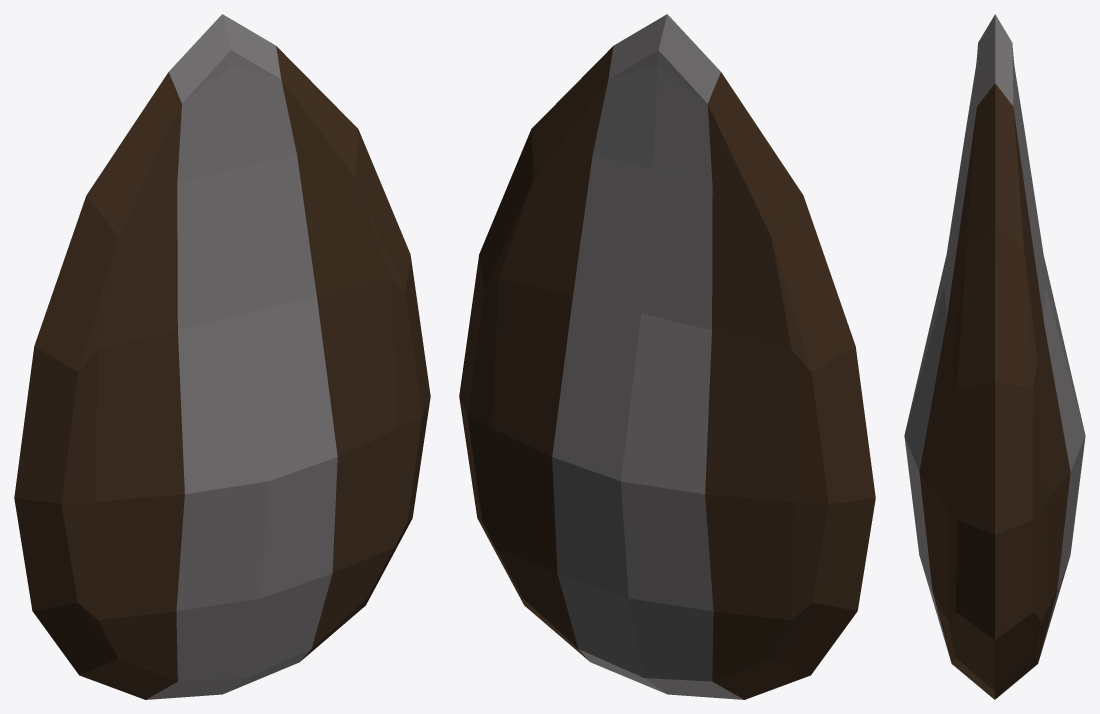
File: seed2.fbx
The picture shows the model from 3 angles, left to right: view 1: azimuth 30°, elevation 25°; view 2: azimuth 150°, elevation 25°; view 3: azimuth 270°, elevation 25°; orthographic projection. The views are drawn at different scales.
Visible parts, largest first — view 1: Circle; view 2: Circle; view 3: Circle.
Part boxes in pixels (x1,y1,x2,y2): Circle: [14, 14, 430, 699]; Circle: [459, 14, 875, 699]; Circle: [904, 14, 1085, 699].
Bounding box in the file's own units: 226 × 353 × 87.61.
